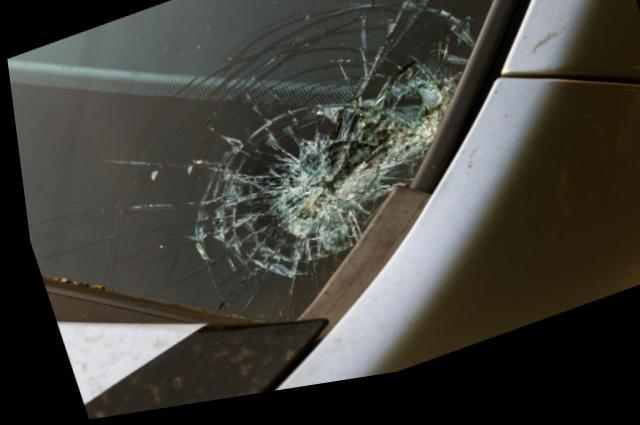glass shatter: (6, 0, 498, 330)
